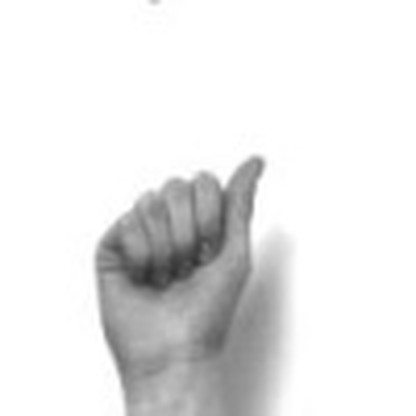a: (69, 141, 297, 399)
